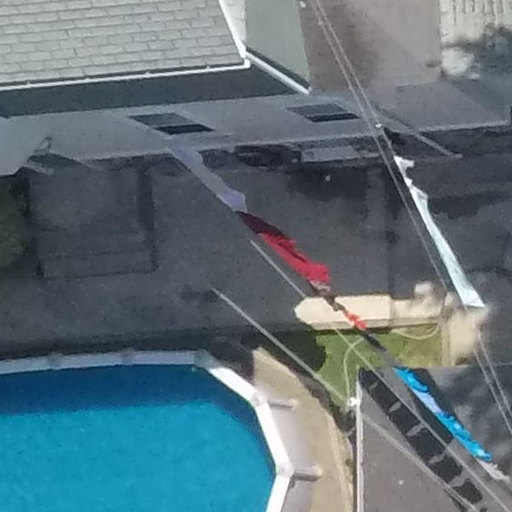pool: (7, 309, 337, 512)
